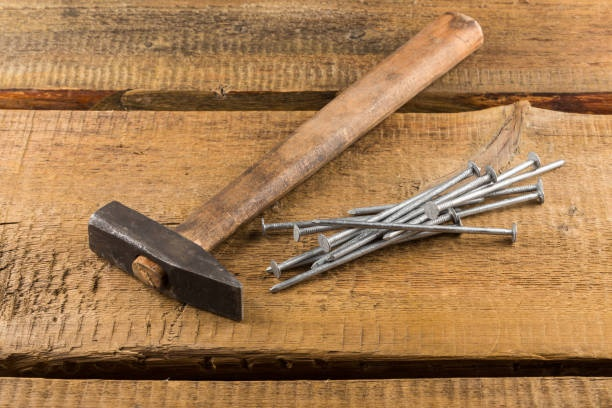hammer: (85, 11, 485, 322)
